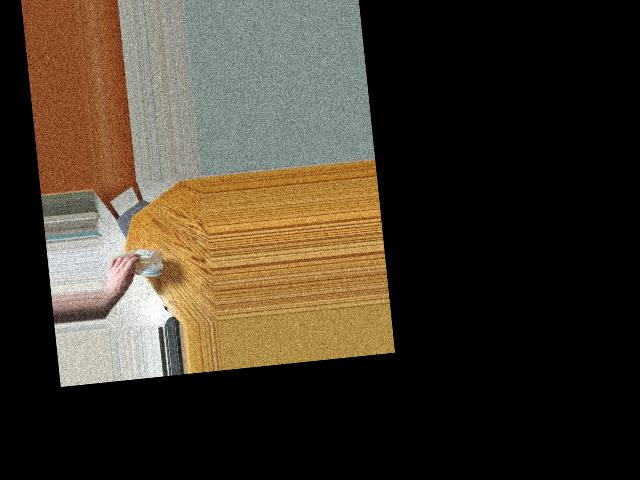cheese: (116, 246, 156, 283)
